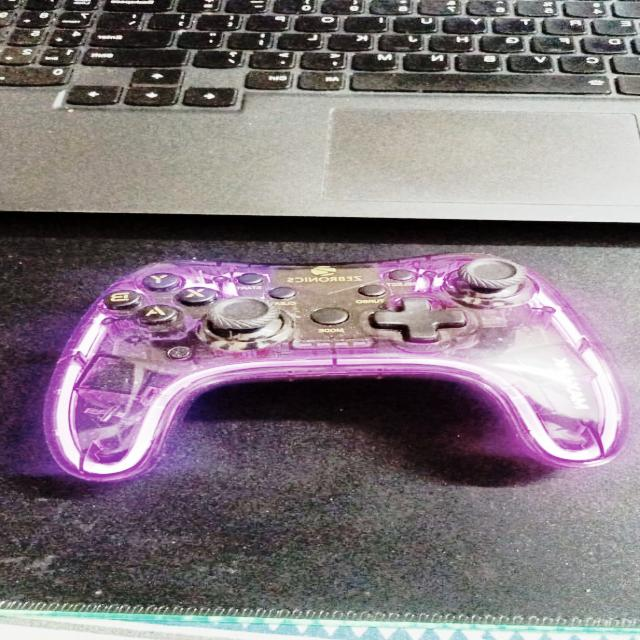gamepad: (40, 250, 635, 484)
